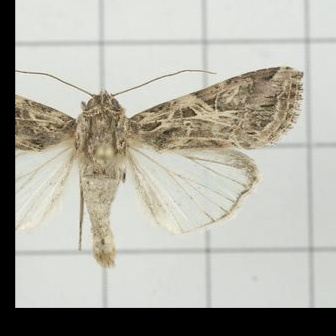Spodoptera litura: (16, 65, 304, 268)
